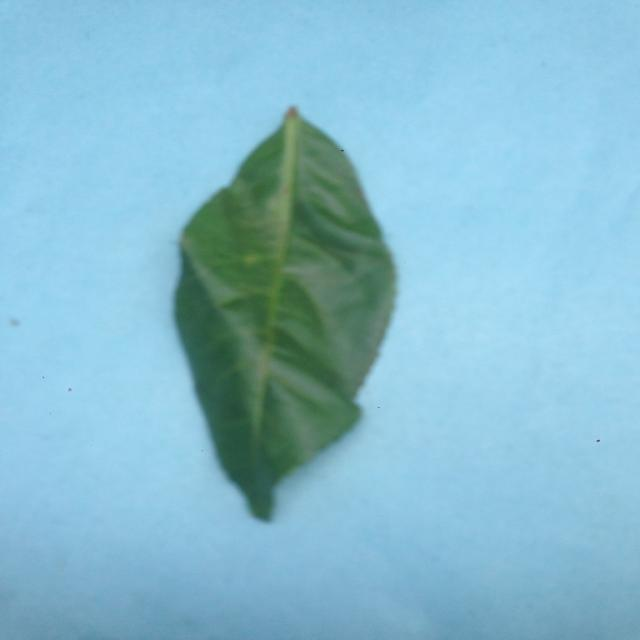Healthy: (118, 76, 356, 528)
